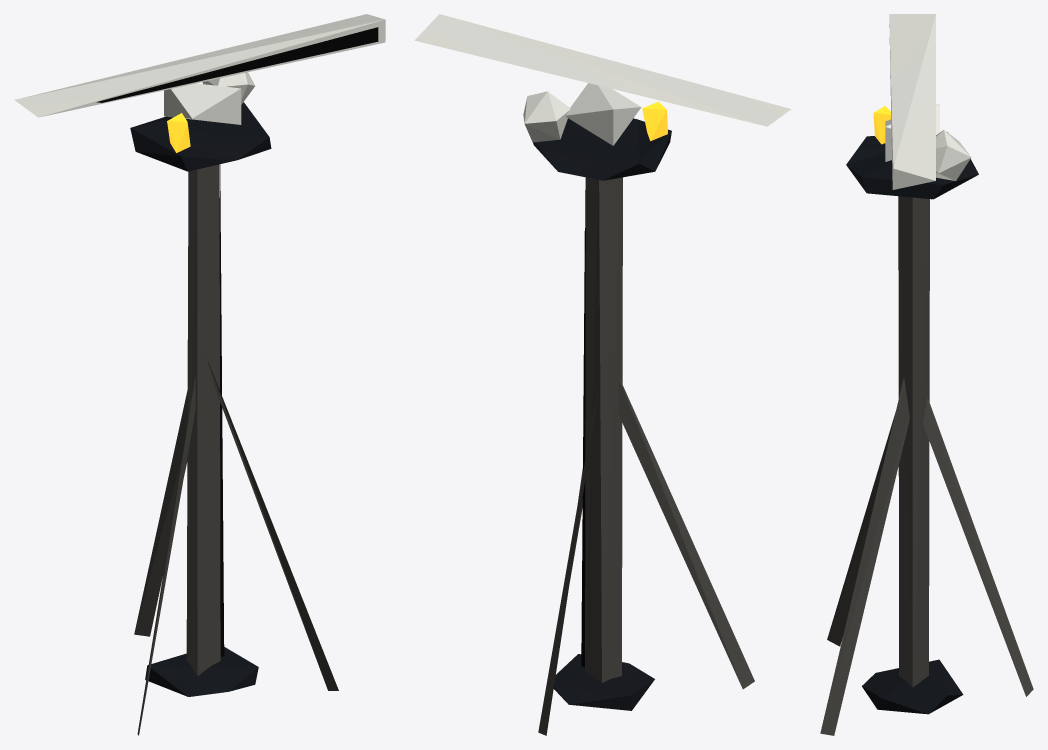
Rendered from tb_upg_radar_mast.three-web-toon.lod25.glb.
3 renders of one model, left to right at view 1: azimuth 30°, elevation 25°; view 2: azimuth 150°, elevation 25°; view 3: azimuth 270°, elevation 25°, orthographic. The views are drawn at different scales.
Parts seen in each view (by area): view 1: tb_upg_radar_mast_mesh_lod, radar_scanner_mesh_lod; view 2: tb_upg_radar_mast_mesh_lod, radar_scanner_mesh_lod; view 3: tb_upg_radar_mast_mesh_lod, radar_scanner_mesh_lod.
Boxes of the visible parts, left/top/right/bottom form: tb_upg_radar_mast_mesh_lod: left=130, top=72, right=338, bottom=735; radar_scanner_mesh_lod: left=14, top=14, right=385, bottom=124; tb_upg_radar_mast_mesh_lod: left=523, top=91, right=754, bottom=735; radar_scanner_mesh_lod: left=414, top=14, right=791, bottom=145; tb_upg_radar_mast_mesh_lod: left=820, top=106, right=1033, bottom=735; radar_scanner_mesh_lod: left=885, top=14, right=939, bottom=189.
Bounding box in the file's own units: 1.01 × 1.72 × 0.5453.
